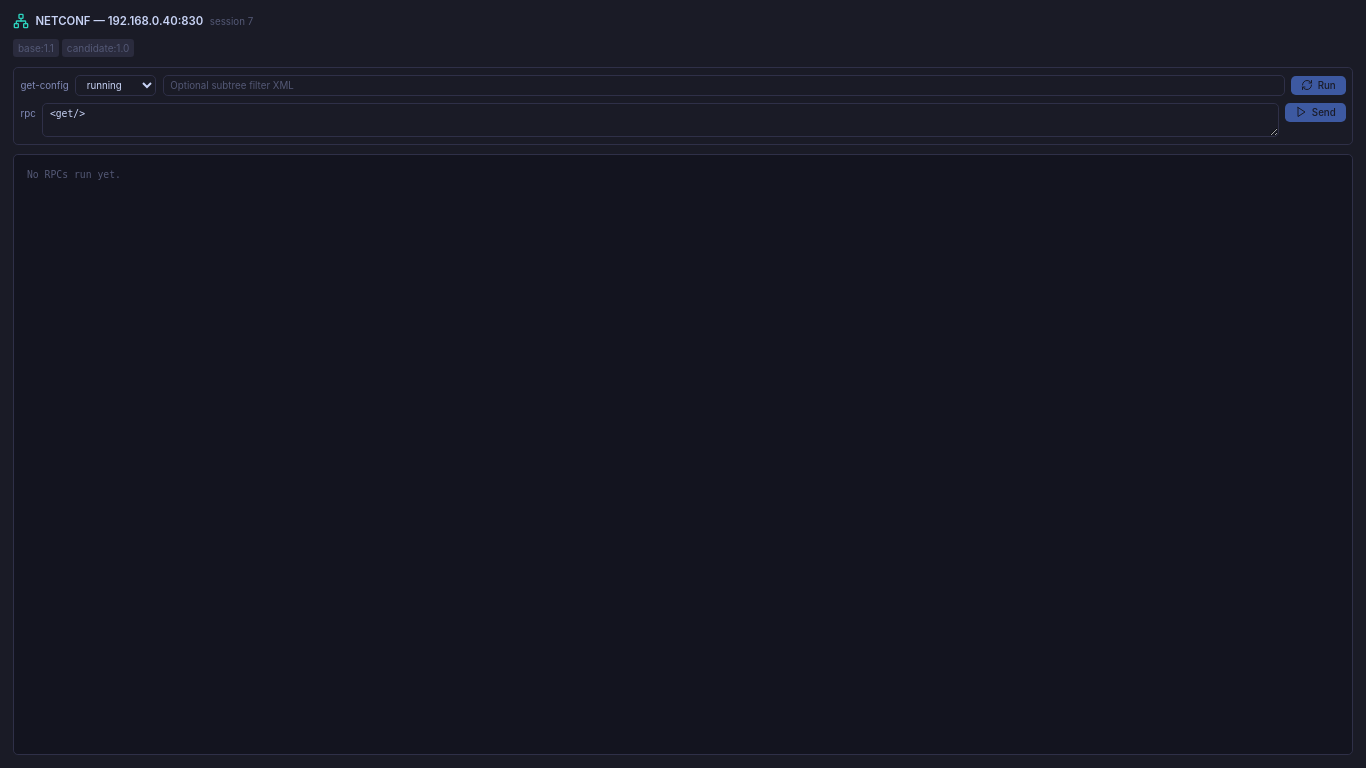
NetconfConsole › sends a free-form RPC body
The image size is (1366, 768).
expect the text "session 7" is shown: met, box [210,15,253,28]
Click the button "Send". click: [1315, 112]
box: [1285,102,1346,122]
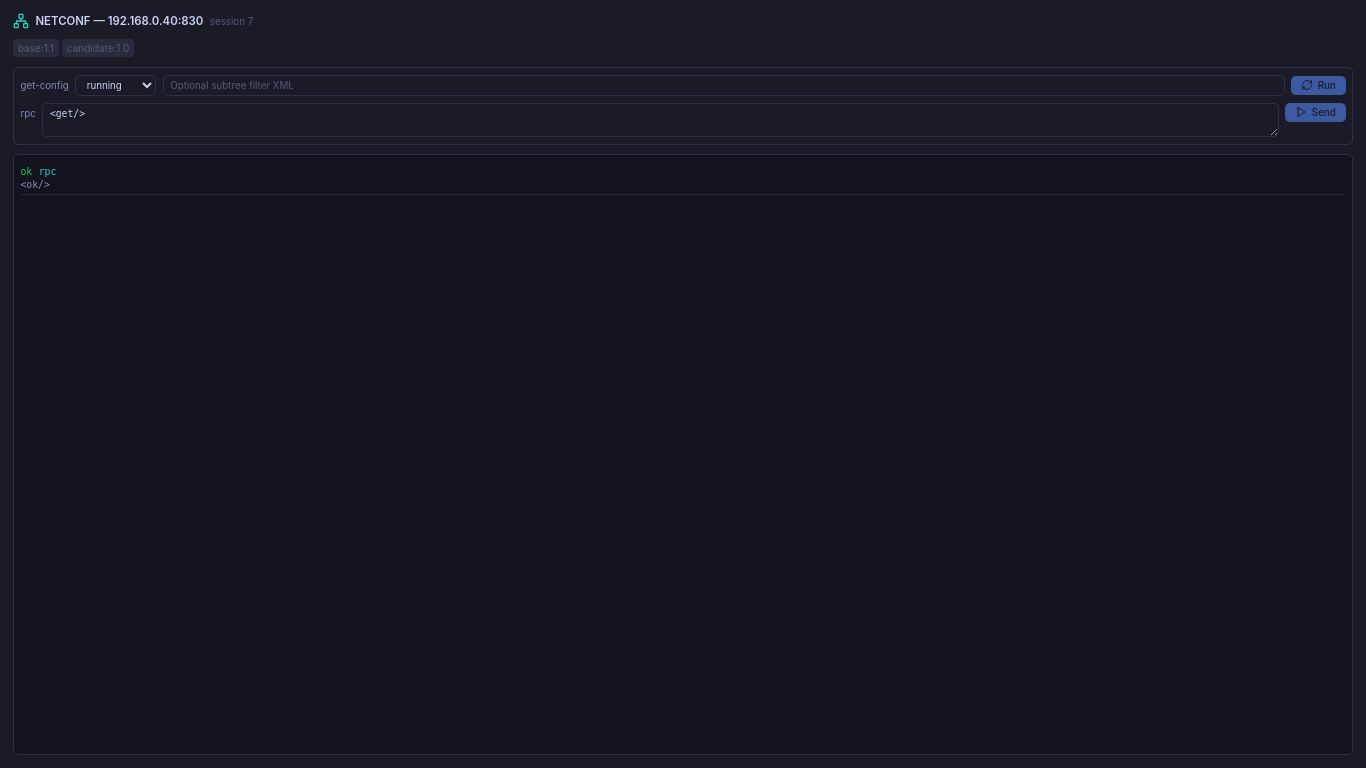
expect the text "<ok/>" is shown: met, box [20,179,50,190]
